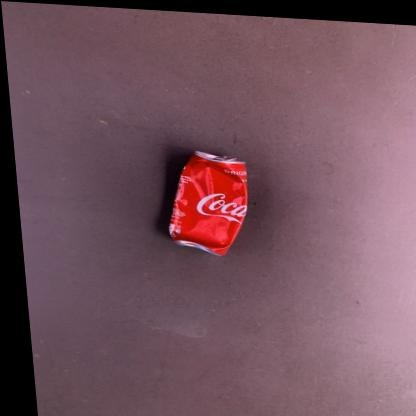trash: (169, 151, 247, 254)
